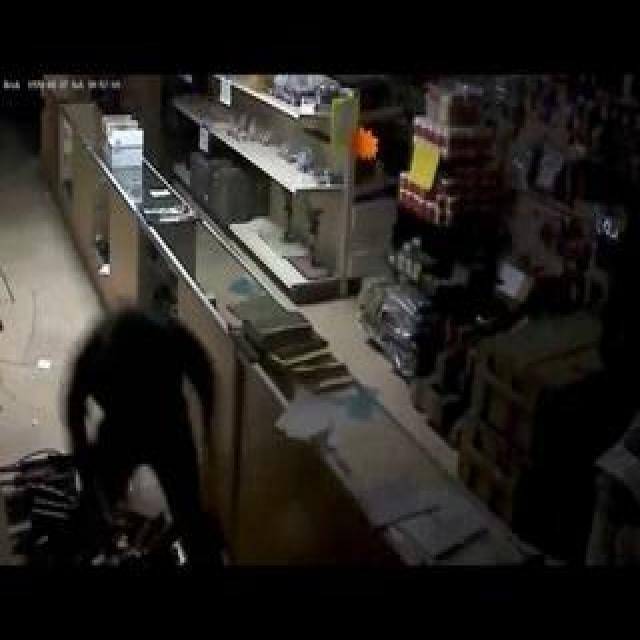thief: (84, 289, 180, 437)
